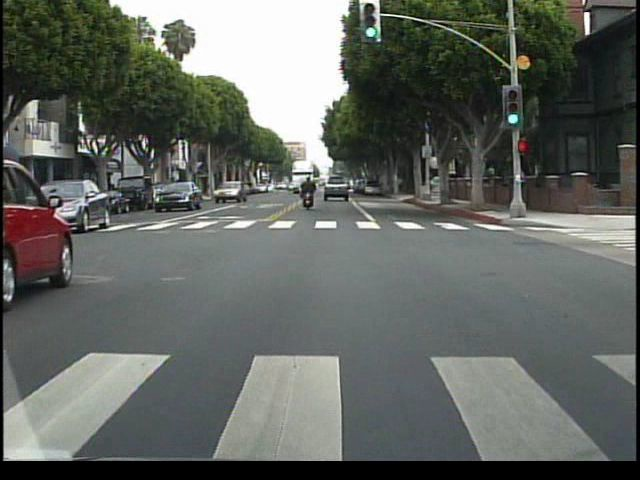person: (299, 175, 319, 215)
